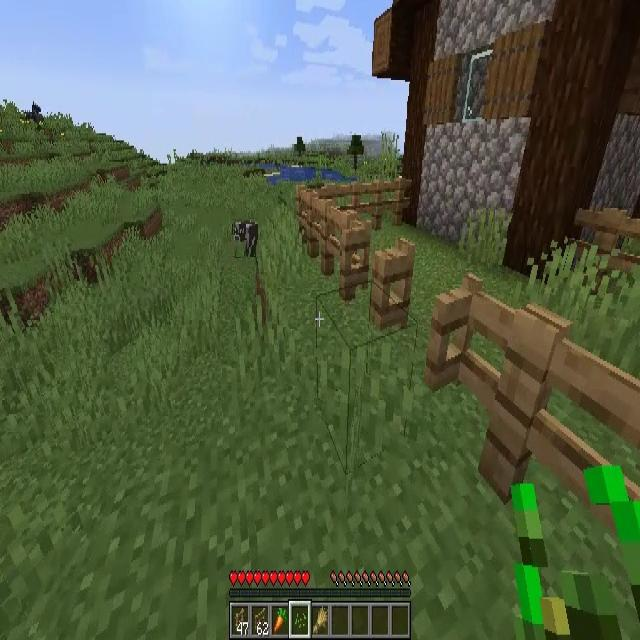cow: (233, 219, 258, 257)
